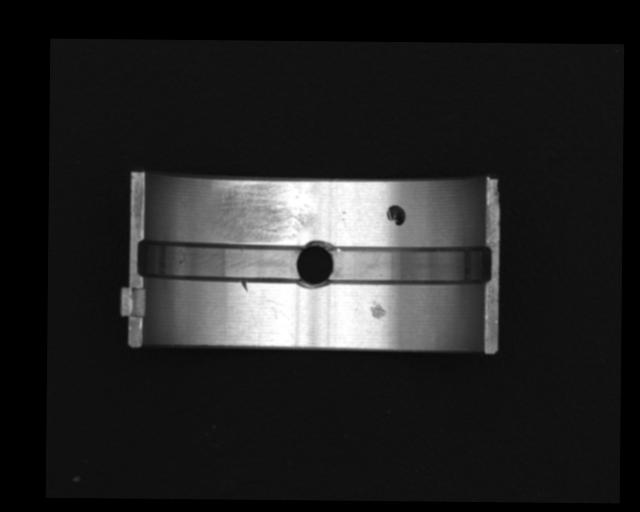blot: (385, 202, 406, 225)
bruise: (368, 300, 387, 320), (241, 280, 248, 292)
gap: (136, 239, 303, 285), (328, 243, 491, 285)
hole: (296, 240, 336, 288)
scratch: (213, 181, 318, 243)
